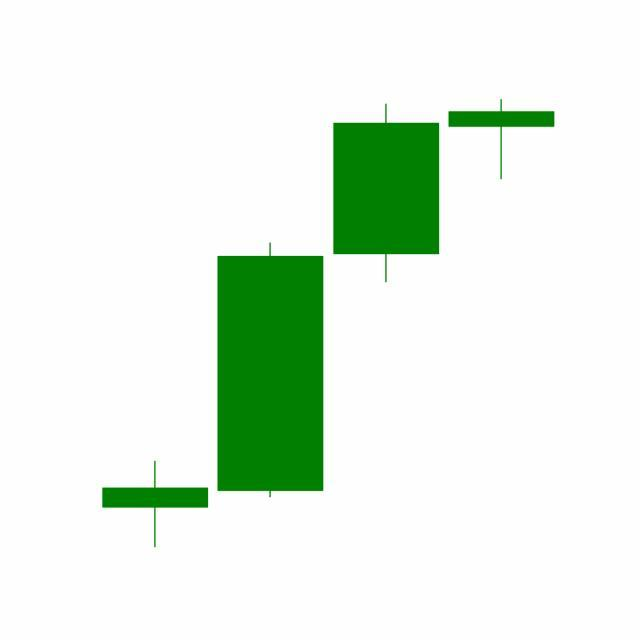Advance Block: (211, 99, 555, 503)
